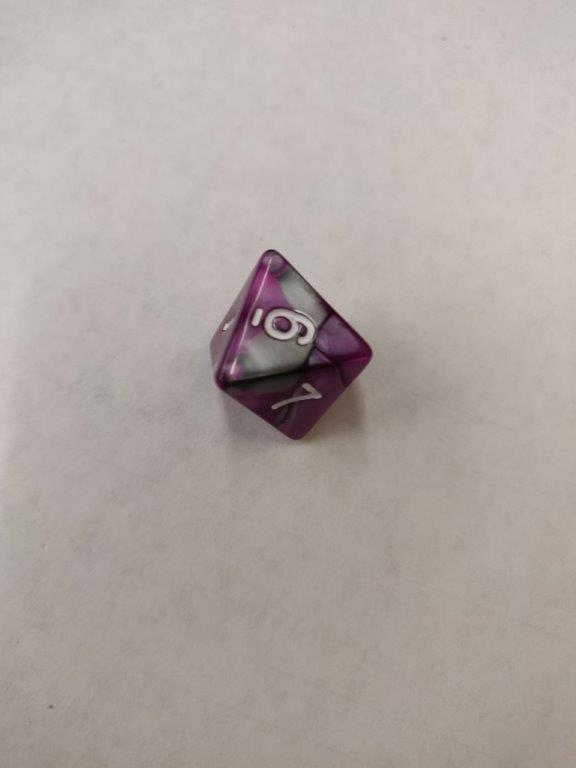d8-6: (210, 247, 371, 442)
